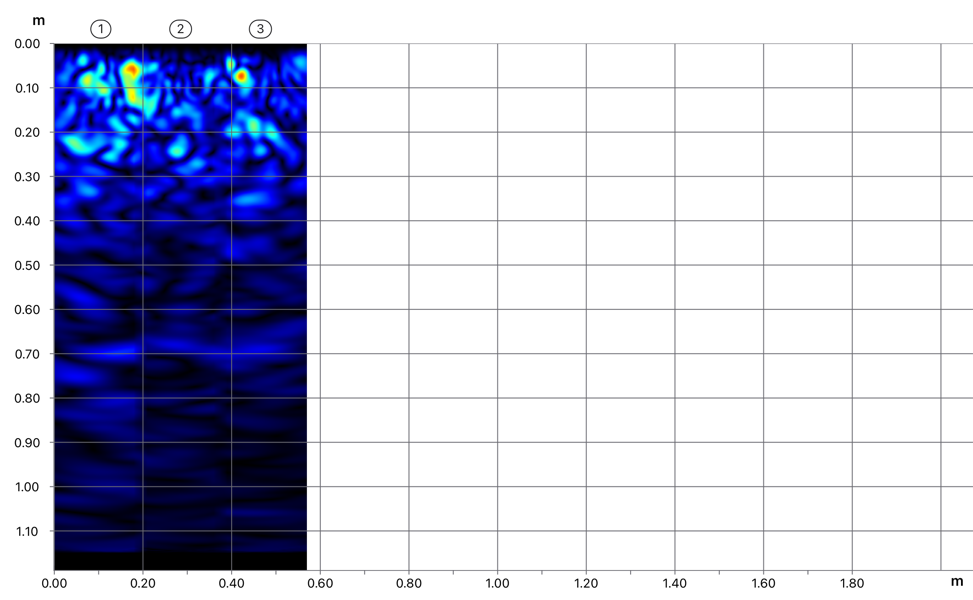crop: (0, 1, 307, 290)
